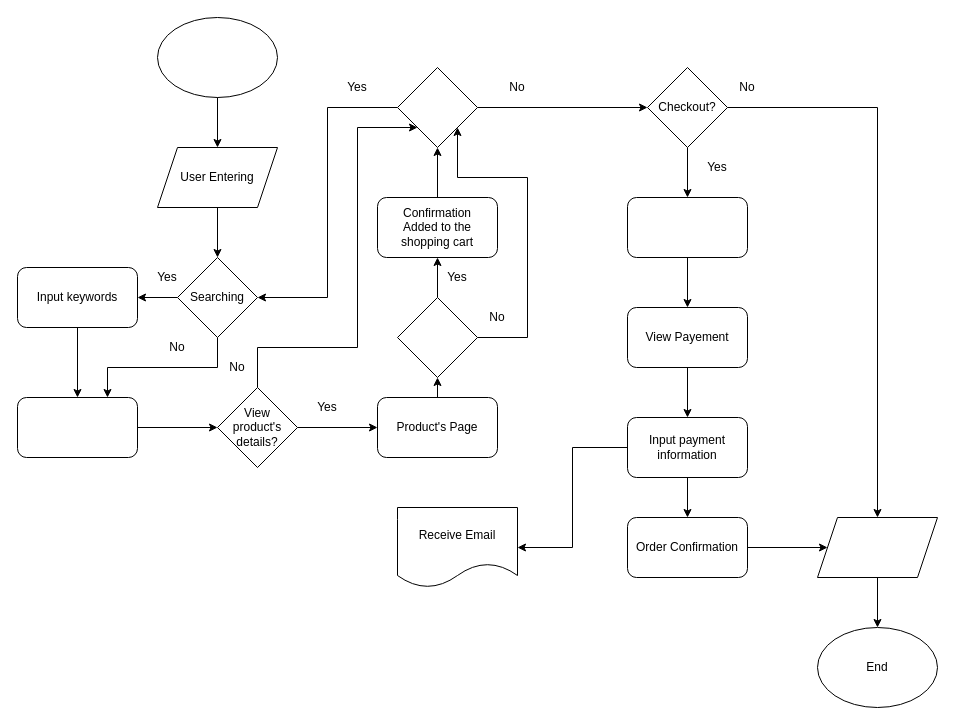
Image size: 955x725. Some labels were removed from this diagram. The centre of each missing label's shape, as x and y in pixels:
Add to shopping cart?: the point at 437,337
Continue Shopping: the point at 437,107
Leave website: the point at 877,547
Looking over products: the point at 77,427
Start: the point at 217,57
View Cart: the point at 687,227
